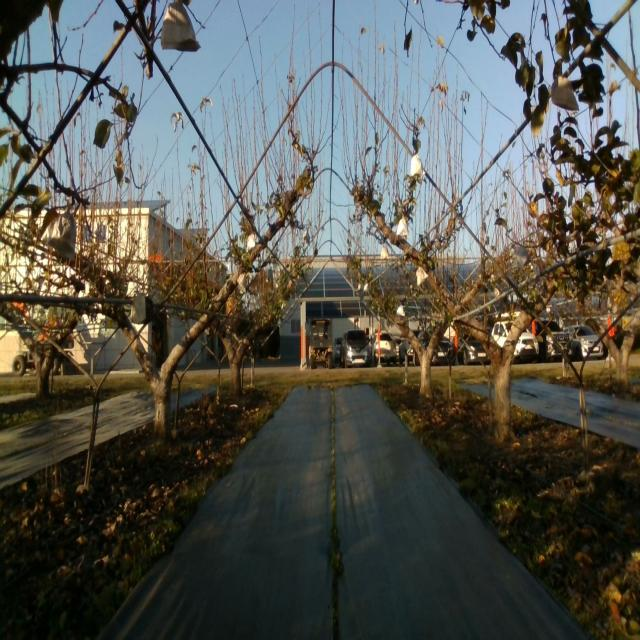pearbags: (160, 0, 202, 54), (41, 211, 77, 259), (551, 76, 580, 110), (515, 245, 530, 271), (410, 152, 426, 176), (396, 216, 408, 236)
